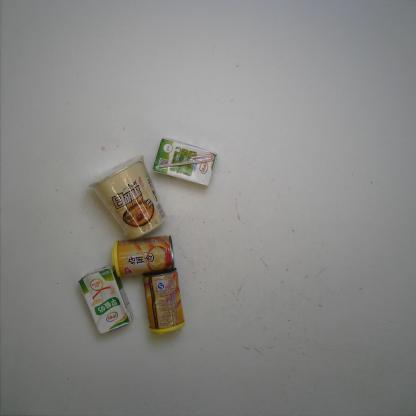Canned Food: (106, 231, 180, 281), (138, 264, 188, 337)
Instant Noodles: (83, 152, 172, 244)
Milk: (75, 263, 136, 337), (150, 134, 220, 188)
